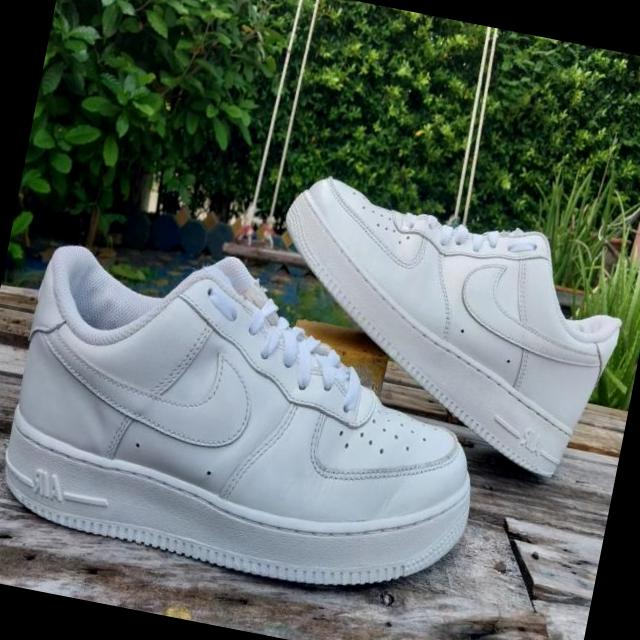nike_original_airforce: (0, 219, 505, 614), (243, 168, 640, 490)
